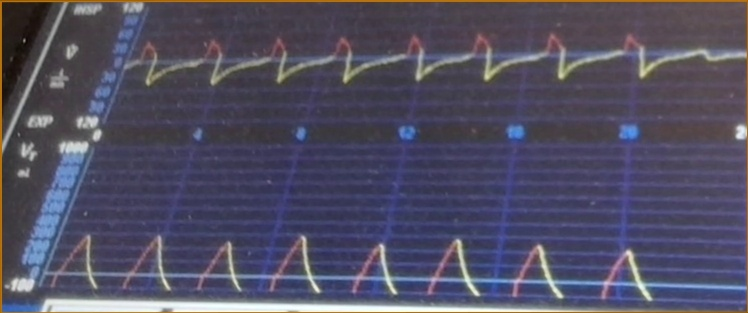Ineffective_effort Flow: (131, 22, 743, 109)
Ineffective_effort Volume: (51, 227, 657, 301)
